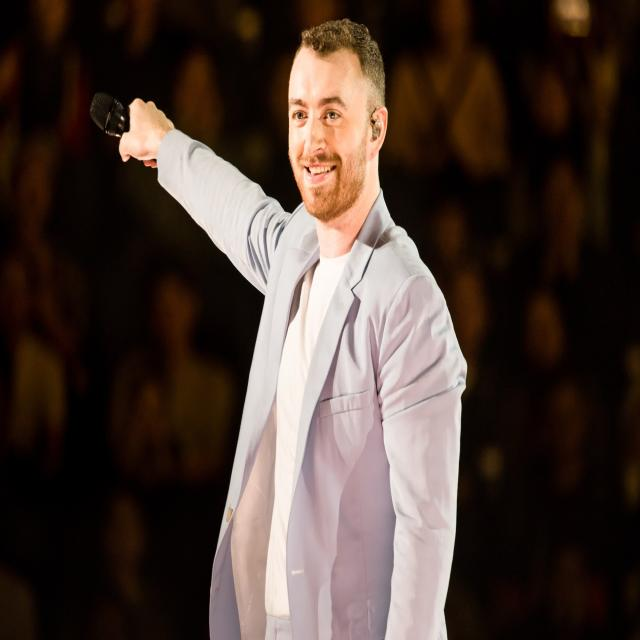human: (87, 6, 474, 640)
